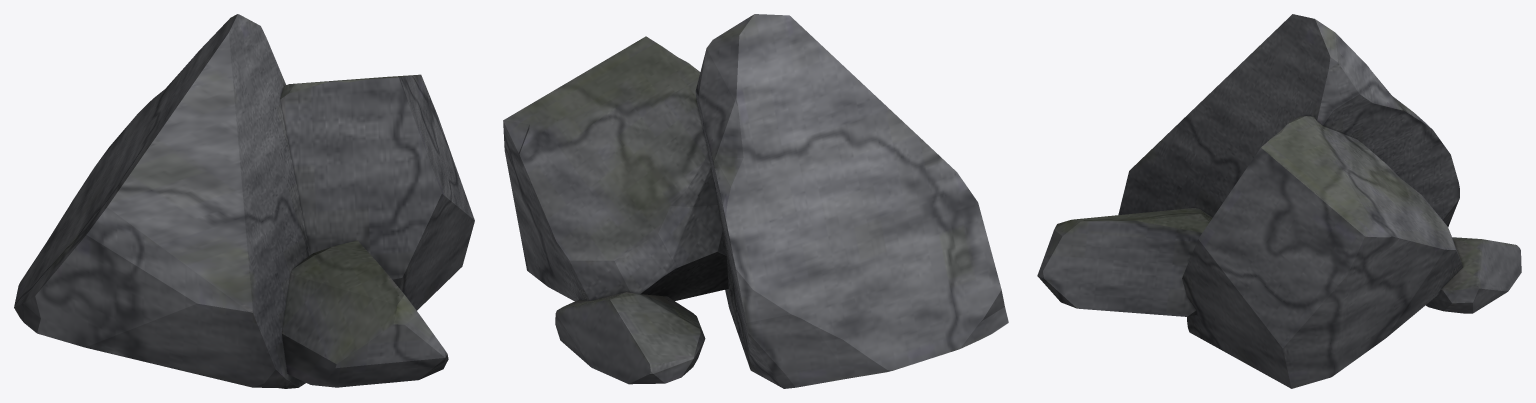
The model's file is fels4.glb.
3 renders of one model, left to right at view 1: azimuth 30°, elevation 25°; view 2: azimuth 150°, elevation 25°; view 3: azimuth 270°, elevation 25°, orthographic. The views are drawn at different scales.
Parts seen in each view (by area): view 1: fels4; view 2: fels4; view 3: fels4.
Part boxes in pixels (left/top/right/bottom): fels4: left=14, top=14, right=474, bottom=388; fels4: left=503, top=14, right=1008, bottom=388; fels4: left=1037, top=14, right=1521, bottom=388.
Bounding box in the file's own units: 1.91 × 1.29 × 1.96.
1 material, 1 textured.
